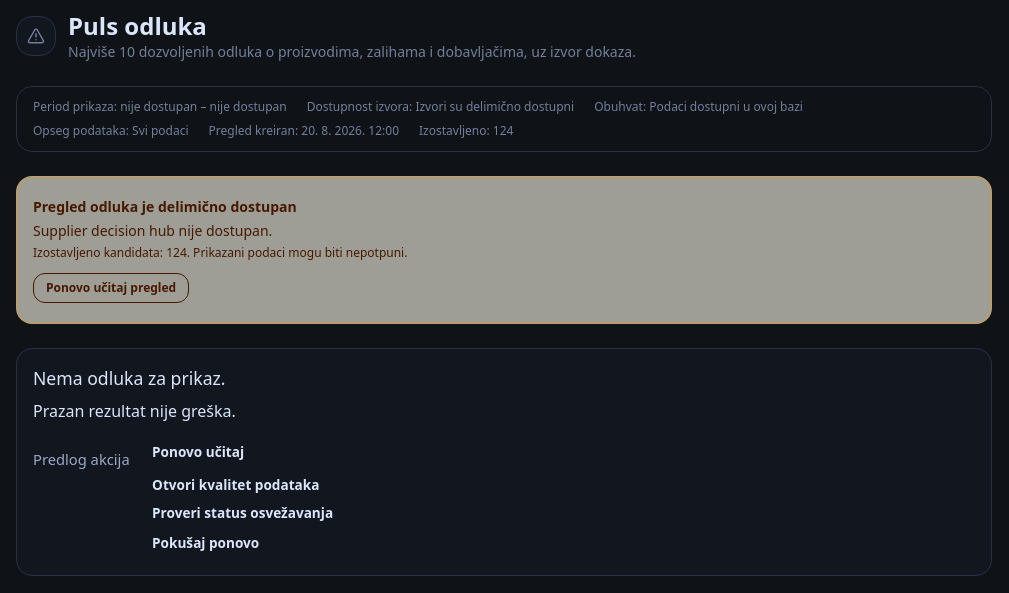
Test case: DecisionPulsePage › shows a partial warning and retry for an empty partial feed
Check: the message with test id "decision-pulse-partial-warning" shows "Supplier decision hub nije dostupan.", box [33, 221, 272, 240]
Check: the message with test id "decision-pulse-partial-warning" shows "delimično dostupan", box [33, 197, 297, 216]
Click the button "Ponovo učitaj pregled" at (111, 288), box [33, 273, 189, 303]
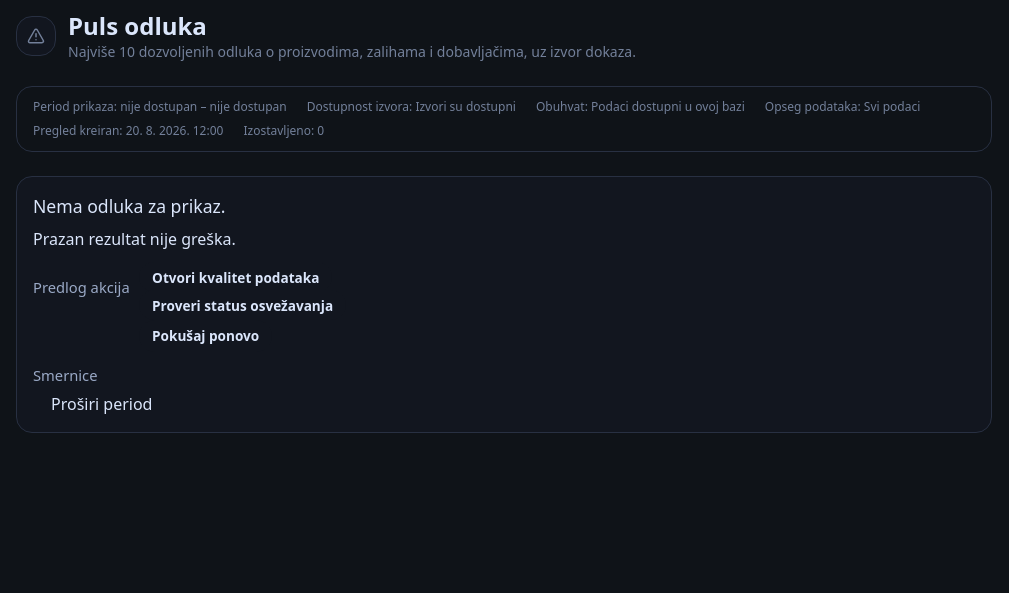
Check: the text "Prazan rezultat nije greška." is shown, box [33, 228, 236, 250]
Check: the message with test id "decision-pulse-partial-warning" is gone
